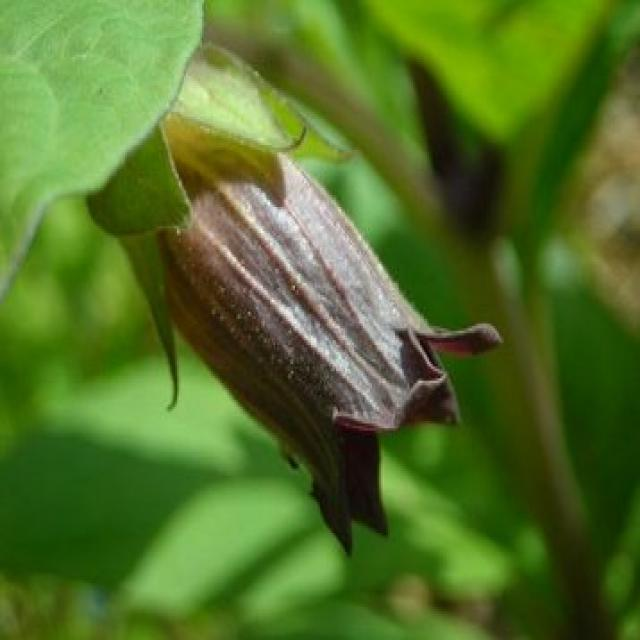Poisonous-Deadly_Nightshade: (74, 93, 526, 579)
